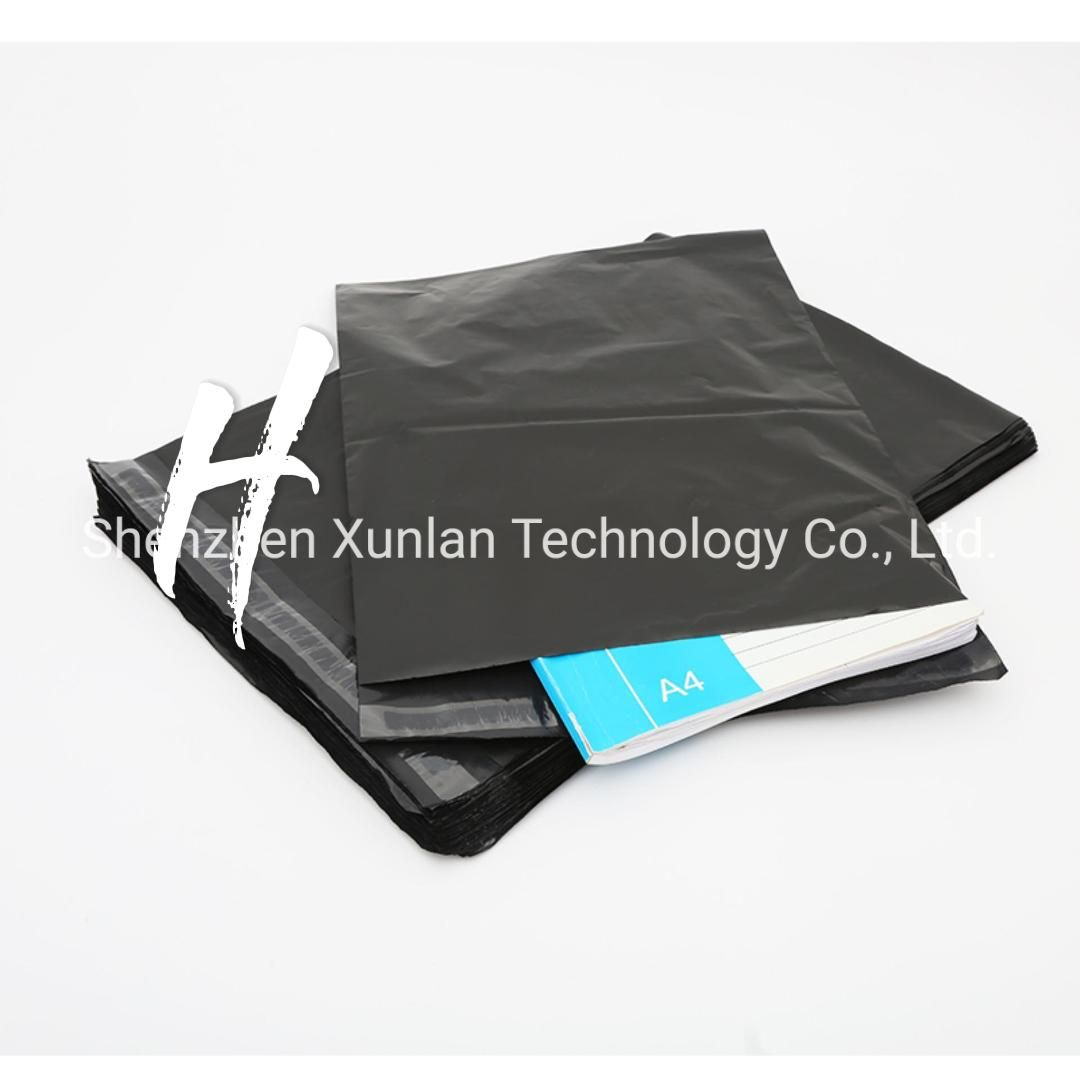塑料袋: (93, 229, 1025, 852)
